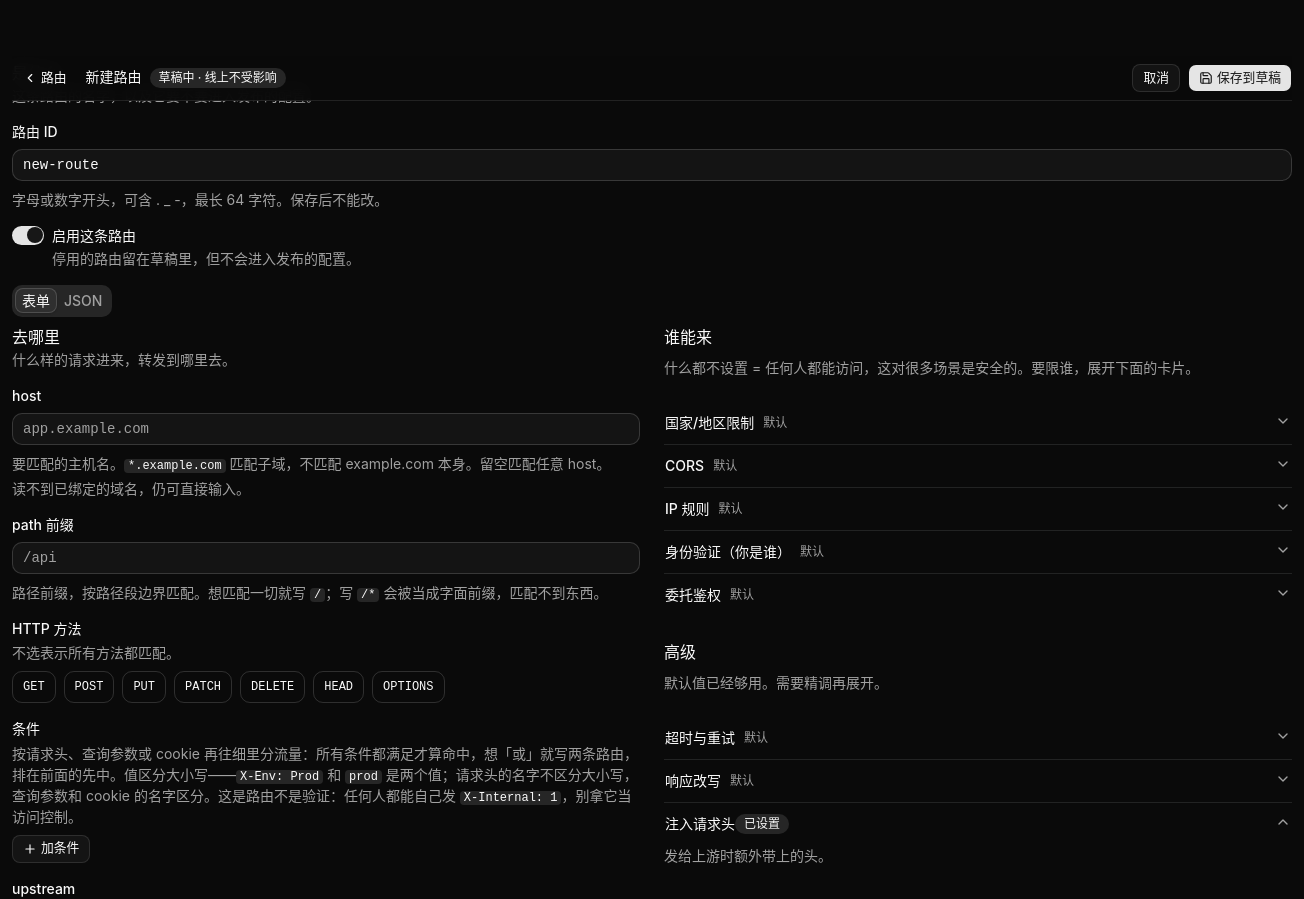
Test case: RouteEditor 手风琴初始展开（重设计） › definition 里已有 upstreamHeaders：头卡自动展开，点过一次的卡头能再收回去
What coordinates should you click on to do the following:
click the button "注入请求头 已设置"
I would click on:
 (700, 823)
Its box is [664,802,1292,844].
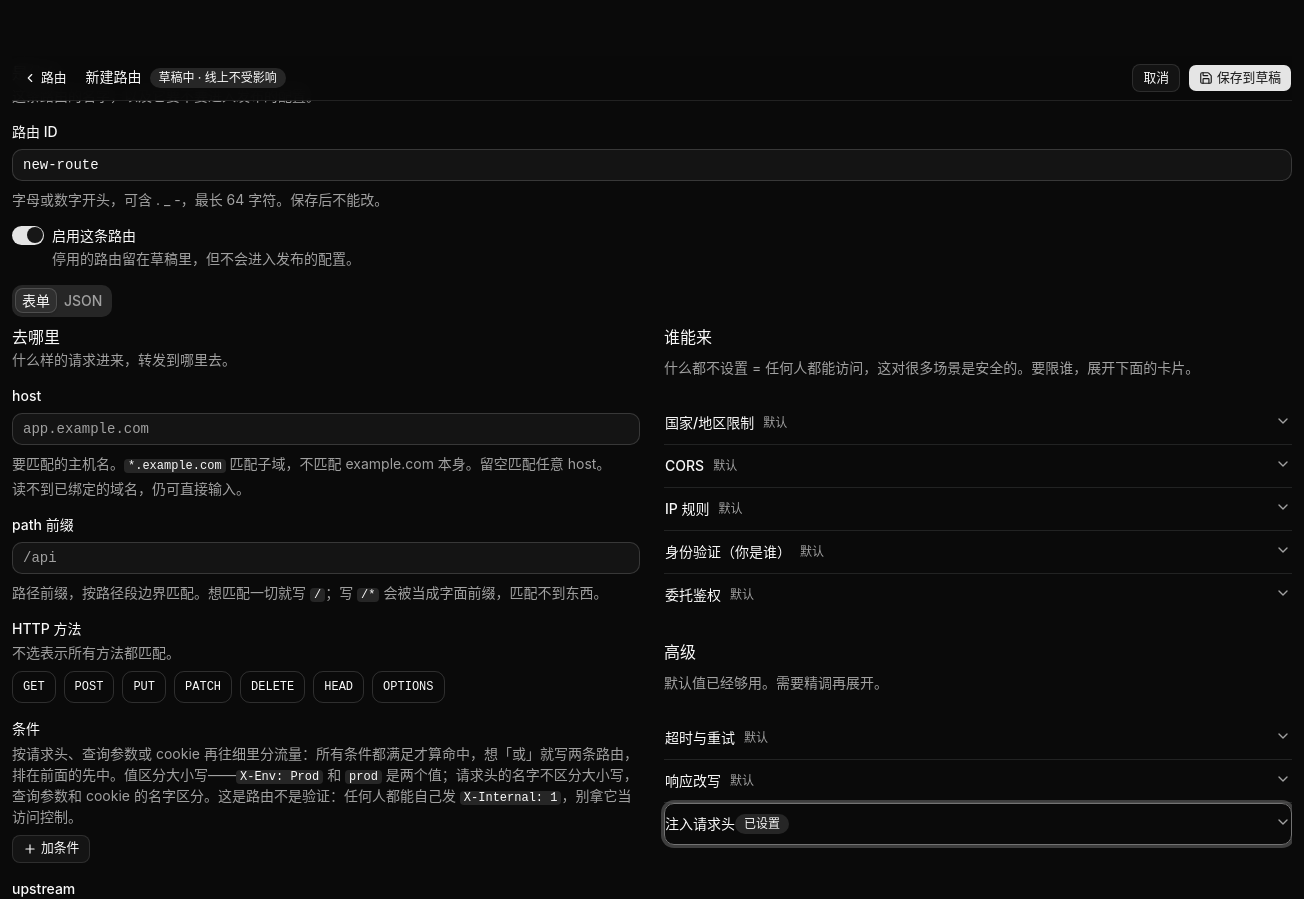
Expected: the button "注入请求头 已设置" is collapsed, [664,802,1292,844]
